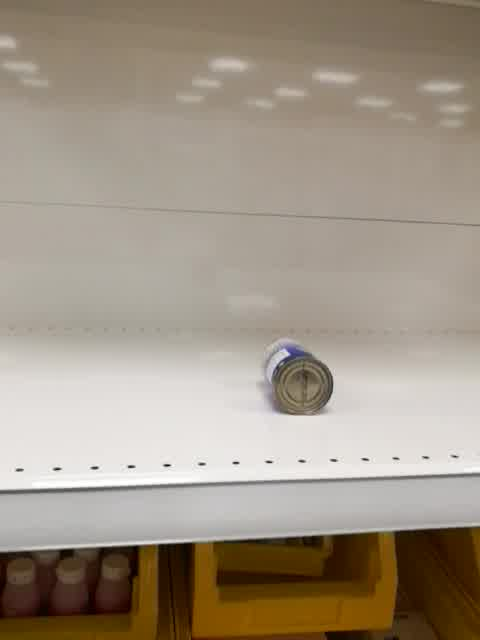sardine: (262, 335, 335, 416)
